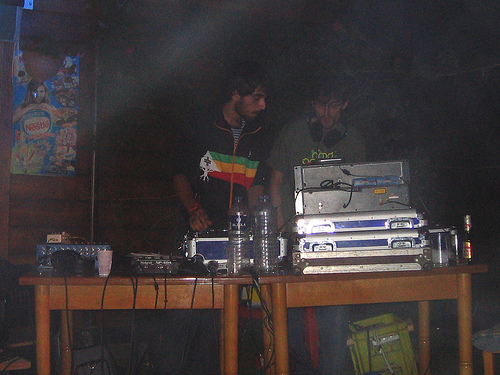without_mask: (225, 75, 271, 128), (307, 87, 351, 132)
